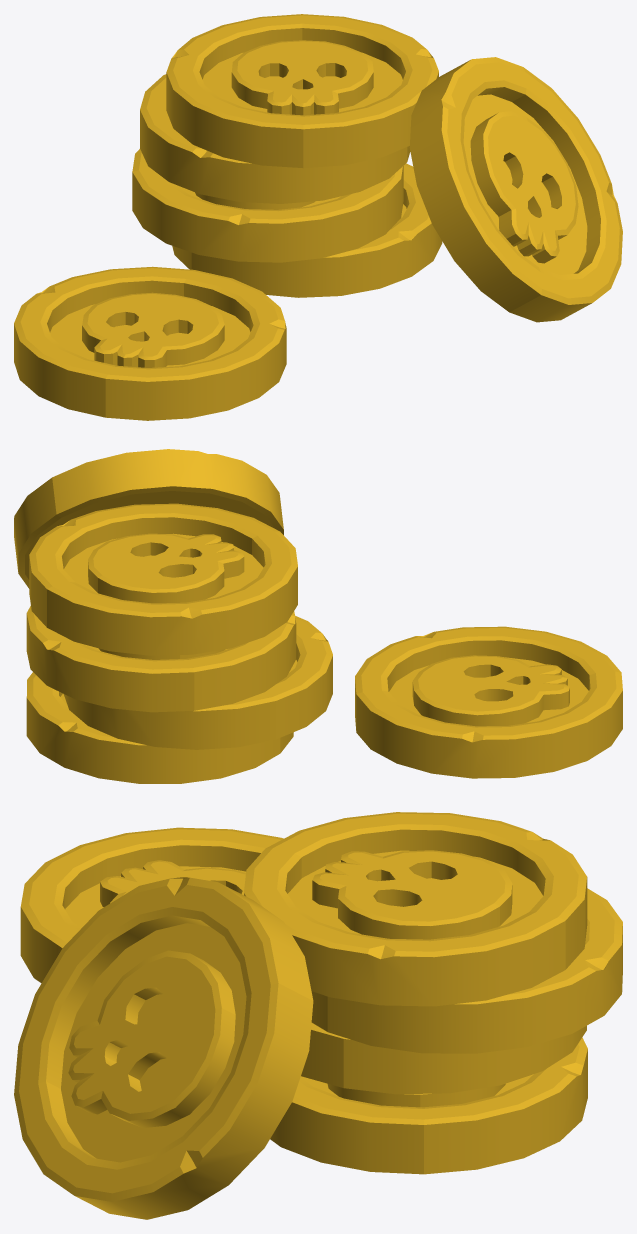
File: coinsnew.fbx
3 renders of one model, top to bottom at view 1: azimuth 30°, elevation 25°; view 2: azimuth 150°, elevation 25°; view 3: azimuth 270°, elevation 25°, orthographic. The views are drawn at different scales.
Parts seen in each view (by area): view 1: Cilindro.005, Cilindro.004, Cilindro.003, Cilindro.001, Cilindro.002, Cilindro; view 2: Cilindro.003, Cilindro.004, Cilindro.002, Cilindro.005, Cilindro.001, Cilindro; view 3: Cilindro.005, Cilindro.003, Cilindro, Cilindro.002, Cilindro.004, Cilindro.001.
Boxes of the visible parts, x1=… form: Cilindro.005: x1=409, y1=57, x2=622, y2=322; Cilindro.004: x1=14, y1=266, x2=286, y2=420; Cilindro.003: x1=166, y1=14, x2=438, y2=168; Cilindro.001: x1=132, y1=149, x2=403, y2=262; Cilindro.002: x1=140, y1=74, x2=410, y2=203; Cilindro: x1=172, y1=163, x2=442, y2=297; Cilindro.003: x1=29, y1=503, x2=297, y2=655; Cilindro.004: x1=355, y1=626, x2=622, y2=778; Cilindro.002: x1=26, y1=605, x2=296, y2=712; Cilindro.005: x1=14, y1=449, x2=283, y2=588; Cilindro.001: x1=63, y1=616, x2=332, y2=749; Cilindro: x1=26, y1=672, x2=293, y2=783; Cilindro.005: x1=14, y1=877, x2=313, y2=1219; Cilindro.003: x1=244, y1=812, x2=587, y2=1006; Cilindro: x1=270, y1=1037, x2=587, y2=1174; Cilindro.002: x1=311, y1=888, x2=622, y2=1053; Cilindro.004: x1=20, y1=827, x2=283, y2=982; Cilindro.001: x1=301, y1=1023, x2=586, y2=1094.
Size of the model in its own units: 1190 by 432 by 849.
